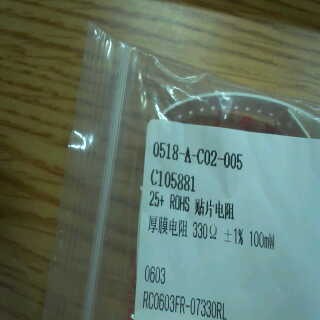330R: (189, 220, 220, 244)
